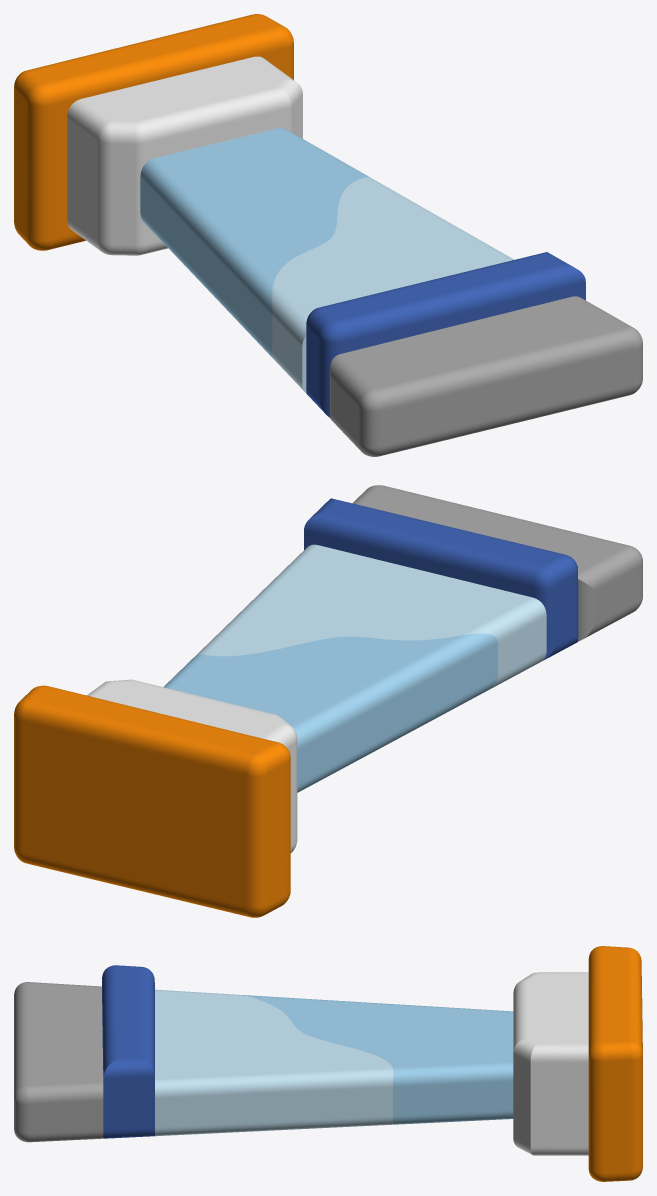
Rendered from Column.dae.
The picture shows the model from 3 angles, top to bottom: view 1: azimuth 30°, elevation 25°; view 2: azimuth 150°, elevation 25°; view 3: azimuth 270°, elevation 25°; orthographic projection. The views are drawn at different scales.
Visible parts, largest first — view 1: 683c1016ca486b08201e6ce1 (×7); view 2: 683c1016ca486b08201e6ce1 (×7); view 3: 683c1016ca486b08201e6ce1 (×7).
Part boxes in pixels (x1,y1,x2,y2): 683c1016ca486b08201e6ce1 (×7): (14, 14, 642, 456); 683c1016ca486b08201e6ce1 (×7): (14, 485, 642, 917); 683c1016ca486b08201e6ce1 (×7): (14, 946, 642, 1181).
Size of the model in its own units: 0.0451 by 0.1051 by 0.0254.
